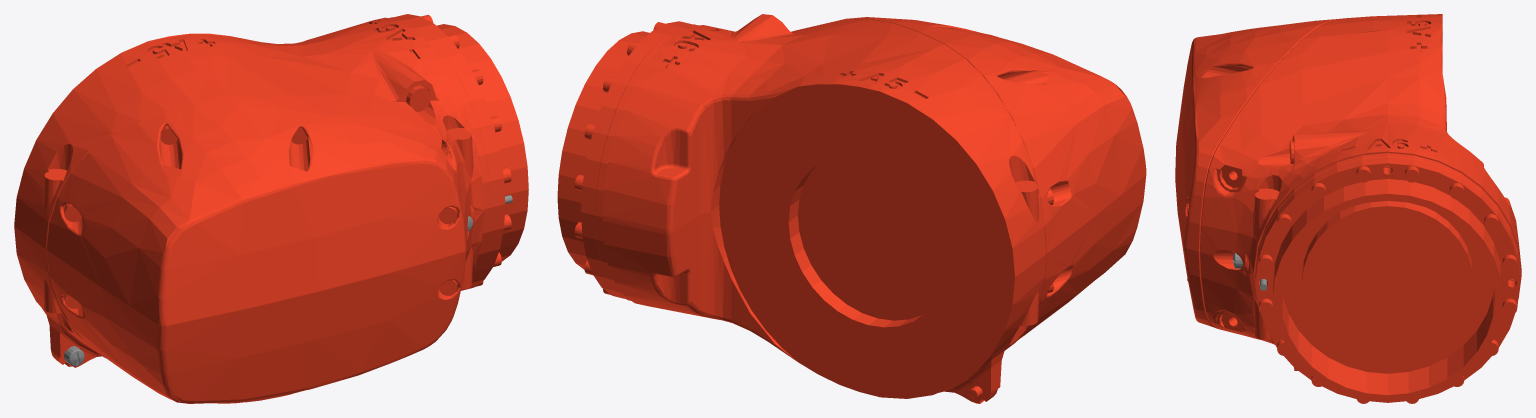
The picture shows the model from 3 angles, left to right: view 1: azimuth 30°, elevation 25°; view 2: azimuth 150°, elevation 25°; view 3: azimuth 270°, elevation 25°; orthographic projection. The views are drawn at different scales.
Parts seen in each view (by area): view 1: link_5; view 2: link_5; view 3: link_5.
Boxes of the visible parts, box(x1,y1,x2,y2) form: link_5: box(14, 14, 528, 403); link_5: box(557, 14, 1146, 403); link_5: box(1175, 14, 1521, 403).
Bounding box in the file's own units: 0.2662 × 0.2019 × 0.1835.
